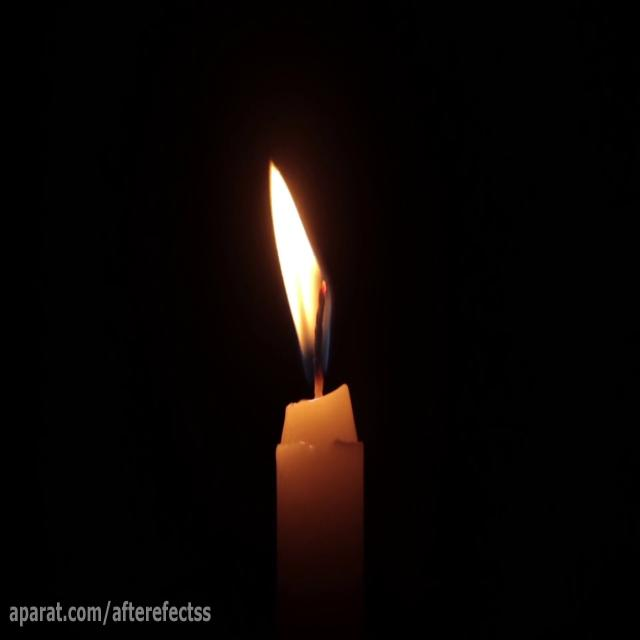fire: (266, 155, 332, 370)
